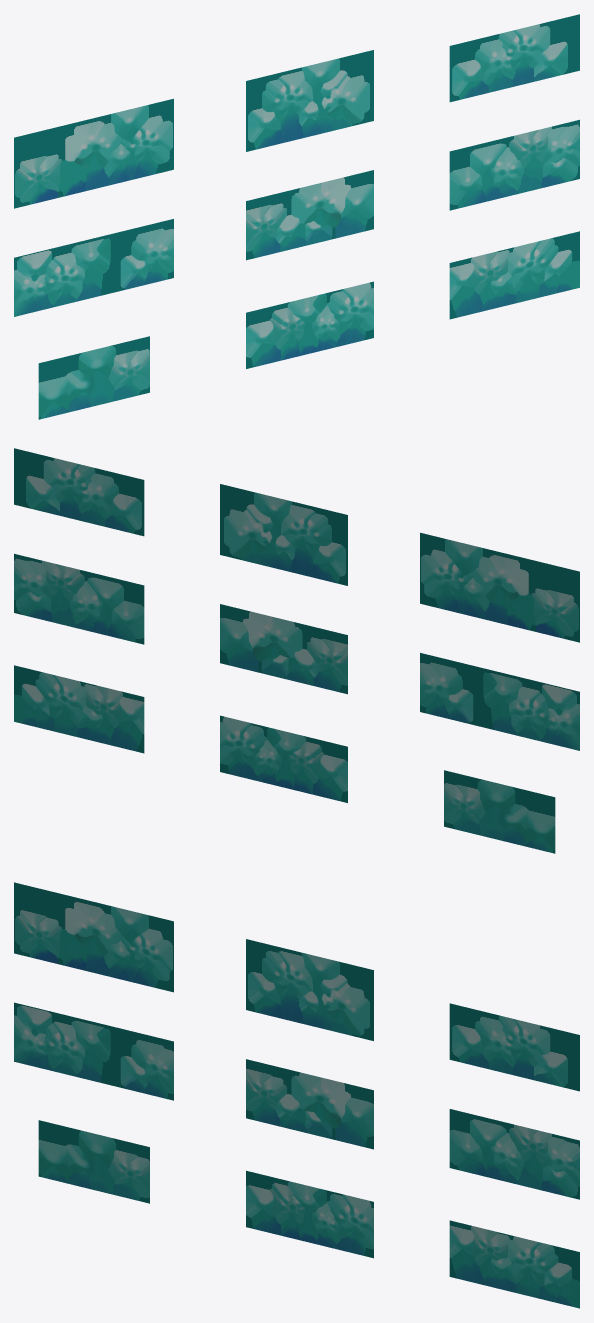
The model's file is P_CyanDaisy.FBX.
3 renders of one model, top to bottom at view 1: azimuth 30°, elevation 25°; view 2: azimuth 150°, elevation 25°; view 3: azimuth 330°, elevation 25°, orthographic.
Parts seen in each view (by area): view 1: mesh_CyanDaisy_A, mesh_CyanDaisy_D, mesh_CyanDaisy_B, mesh_CyanDaisy_F, mesh_CyanDaisy_E, mesh_CyanDaisy_I, mesh_CyanDaisy_C, mesh_CyanDaisy_H, mesh_CyanDaisy_G; view 2: mesh_CyanDaisy_A, mesh_CyanDaisy_D, mesh_CyanDaisy_B, mesh_CyanDaisy_F, mesh_CyanDaisy_E, mesh_CyanDaisy_I, mesh_CyanDaisy_C, mesh_CyanDaisy_H, mesh_CyanDaisy_G; view 3: mesh_CyanDaisy_A, mesh_CyanDaisy_D, mesh_CyanDaisy_B, mesh_CyanDaisy_F, mesh_CyanDaisy_E, mesh_CyanDaisy_I, mesh_CyanDaisy_C, mesh_CyanDaisy_H, mesh_CyanDaisy_G.
Part boxes in pixels (x1=…): mesh_CyanDaisy_A: x1=14, y1=98, x2=173, y2=208; mesh_CyanDaisy_D: x1=14, y1=219, x2=173, y2=316; mesh_CyanDaisy_B: x1=246, y1=50, x2=373, y2=151; mesh_CyanDaisy_F: x1=449, y1=119, x2=579, y2=210; mesh_CyanDaisy_E: x1=246, y1=170, x2=373, y2=260; mesh_CyanDaisy_I: x1=449, y1=231, x2=579, y2=319; mesh_CyanDaisy_C: x1=449, y1=14, x2=579, y2=102; mesh_CyanDaisy_H: x1=246, y1=281, x2=373, y2=368; mesh_CyanDaisy_G: x1=38, y1=336, x2=149, y2=419; mesh_CyanDaisy_A: x1=420, y1=532, x2=579, y2=642; mesh_CyanDaisy_D: x1=420, y1=653, x2=579, y2=750; mesh_CyanDaisy_B: x1=220, y1=484, x2=347, y2=585; mesh_CyanDaisy_F: x1=14, y1=553, x2=144, y2=644; mesh_CyanDaisy_E: x1=220, y1=604, x2=347, y2=694; mesh_CyanDaisy_I: x1=14, y1=665, x2=144, y2=753; mesh_CyanDaisy_C: x1=14, y1=448, x2=144, y2=536; mesh_CyanDaisy_H: x1=220, y1=715, x2=347, y2=802; mesh_CyanDaisy_G: x1=444, y1=770, x2=555, y2=853; mesh_CyanDaisy_A: x1=14, y1=882, x2=173, y2=992; mesh_CyanDaisy_D: x1=14, y1=1002, x2=173, y2=1100; mesh_CyanDaisy_B: x1=246, y1=939, x2=373, y2=1040; mesh_CyanDaisy_F: x1=449, y1=1109, x2=579, y2=1199; mesh_CyanDaisy_E: x1=246, y1=1059, x2=373, y2=1149; mesh_CyanDaisy_I: x1=449, y1=1220, x2=579, y2=1308; mesh_CyanDaisy_C: x1=449, y1=1003, x2=579, y2=1091; mesh_CyanDaisy_H: x1=246, y1=1170, x2=373, y2=1258; mesh_CyanDaisy_G: x1=38, y1=1120, x2=149, y2=1203.
Size of the model in its own units: 223 by 109 by 1.88e-06.
